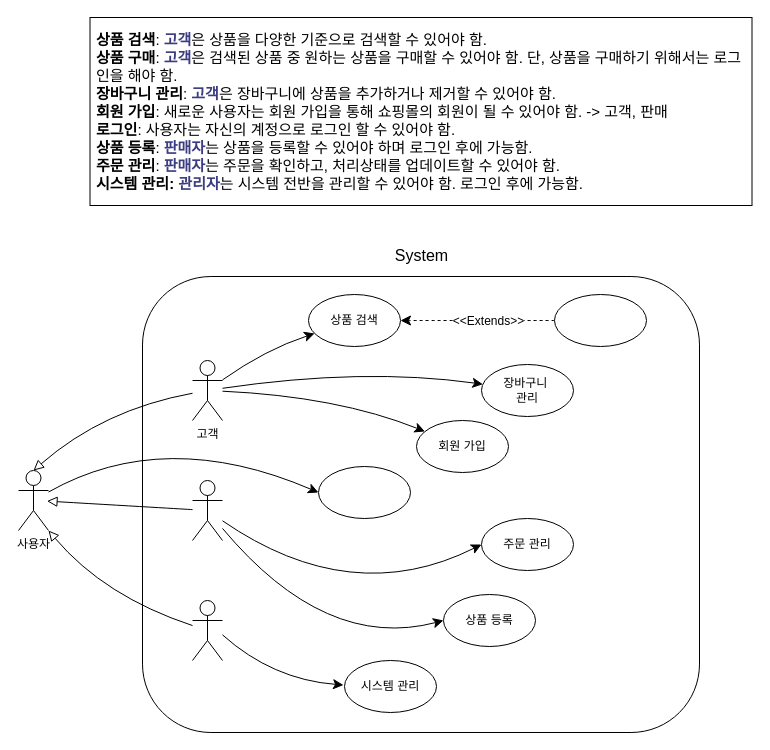
Some shapes in this 770 by 750 pixel diagram are drawn without their labels. The box of each missing label's shape, as (x1, y1, x2, y2) in pixels:
관리자: (192, 600, 222, 660)
로그인: (318, 466, 410, 518)
상품 구매: (554, 294, 646, 346)
판매자: (192, 480, 222, 540)
